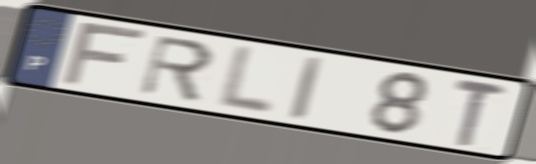8: (366, 69, 434, 136)
F: (57, 20, 152, 88)
I: (286, 53, 326, 124)
L: (212, 42, 278, 119)
R: (137, 33, 217, 104)
T: (451, 75, 510, 150)
